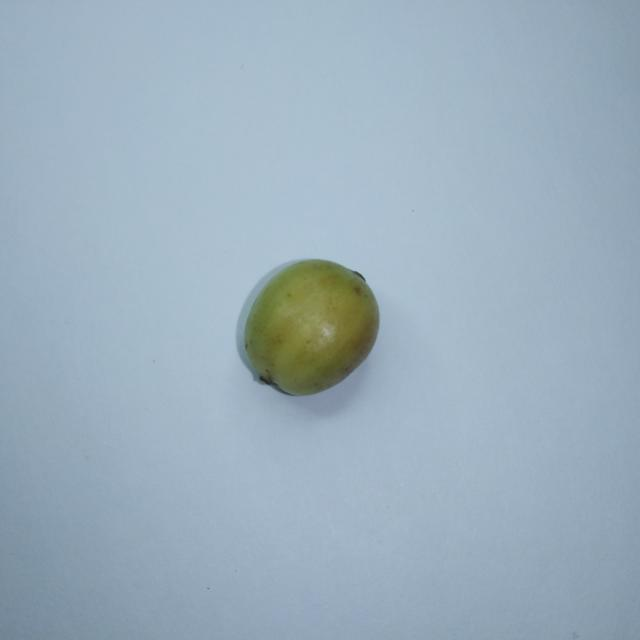Sano: (238, 259, 378, 395)
